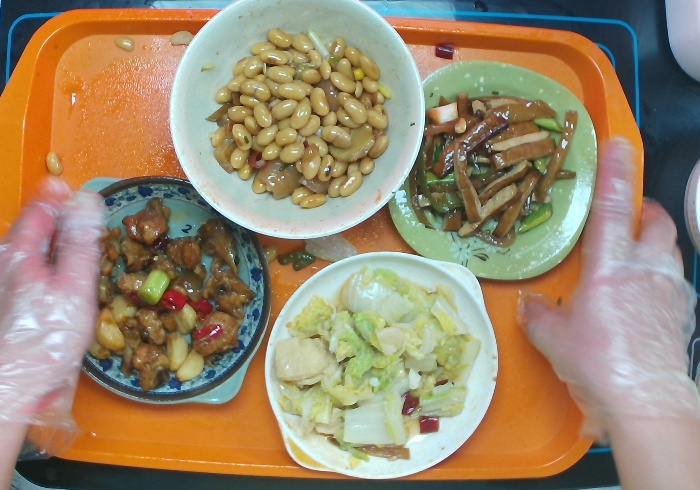NLDX-Bai_Se_Shuang_Er_Die: (266, 257, 511, 483)
NLDX-Bai_Se_Yuan_Wan: (169, 1, 415, 251)
NLDX-Lv_Hua_Fang_Die: (388, 61, 604, 270)
NLDX-Qing_Hua_Shuang_Er_Die: (42, 180, 277, 422)
